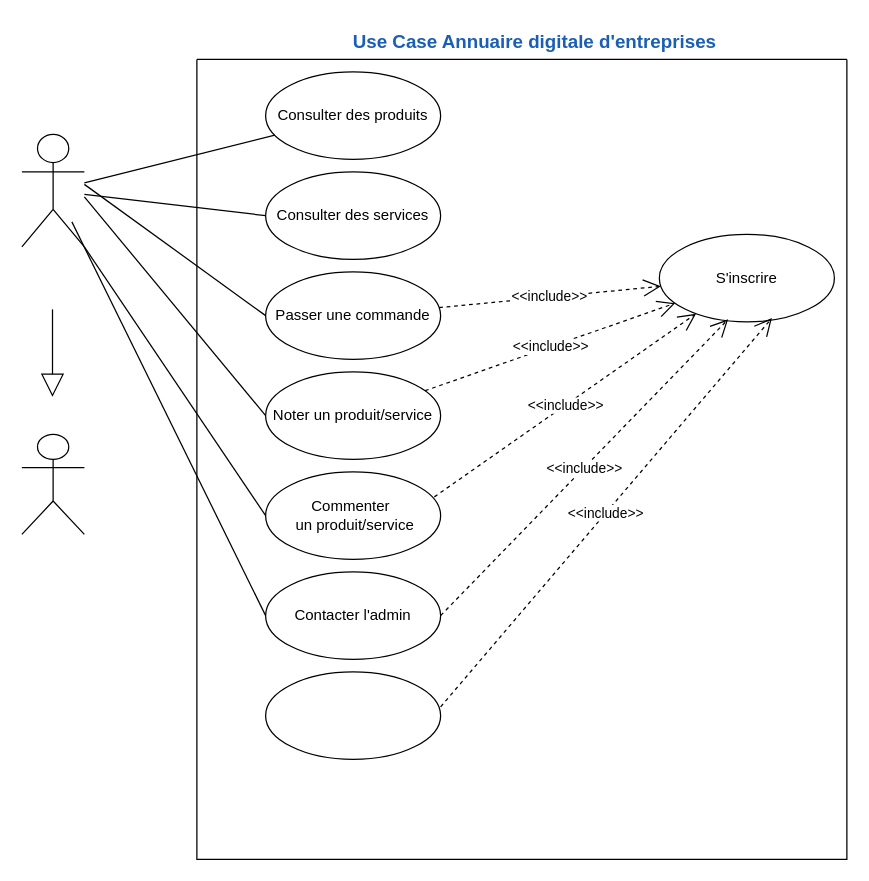
Image size: 869x881. Some labels were removed from this diagram. Here are the shapes that lost their labels. From the top down, the centre of each, then its label:
point 52,190: visiteur
point 52,483: client
point 352,715: Supprimer le compte
